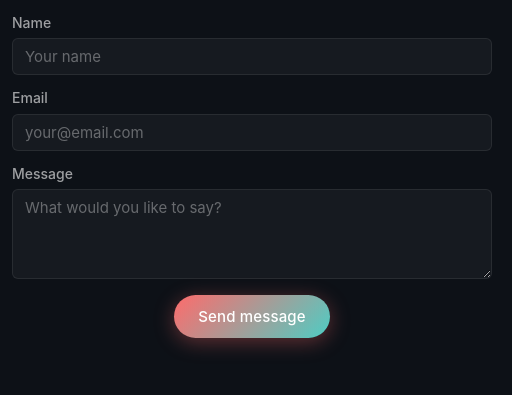
Test case: ContactForm › shows validation errors on blur for empty required fields
Click the field labelled "Name".
click(252, 57)  # box [12,38,492,75]
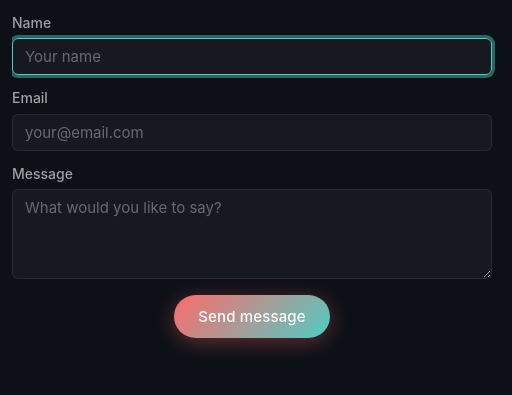
Press Tab
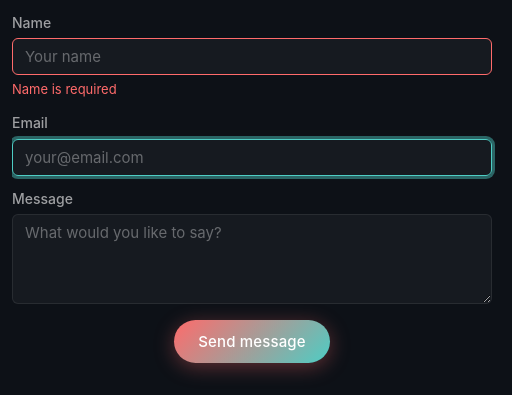
expect the message "Name is required" is shown: met, box [12,81,117,97]
